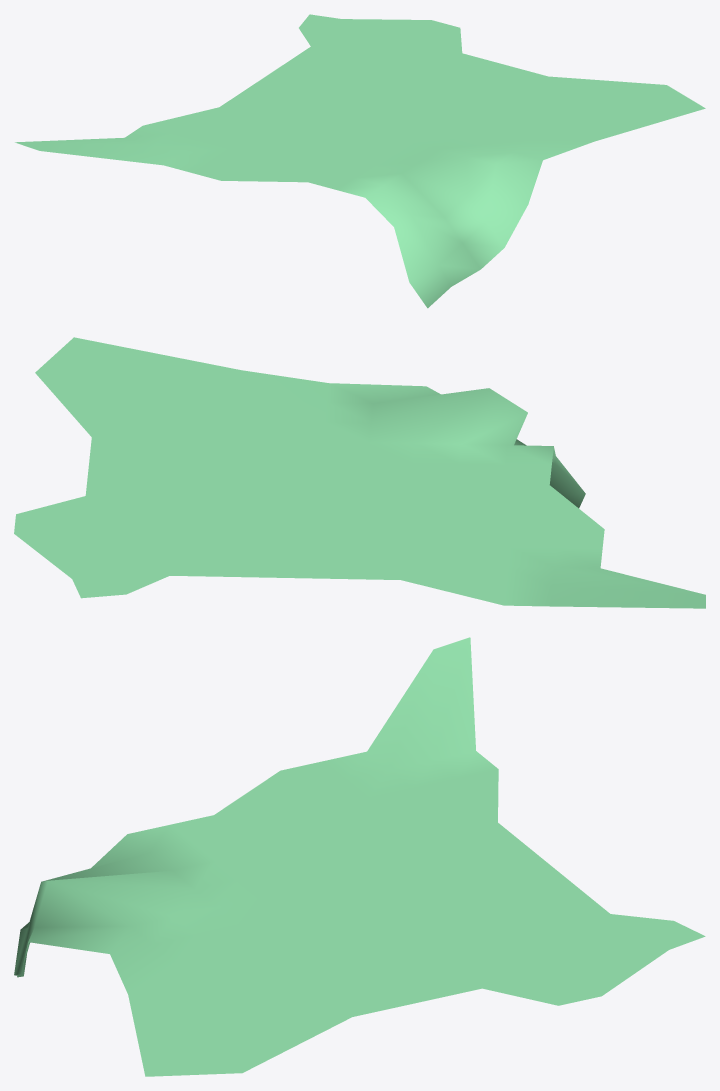
File: slime1.fbx
3 views of the same model, one above another, from view 1: azimuth 30°, elevation 25°; view 2: azimuth 150°, elevation 25°; view 3: azimuth 270°, elevation 25° (orthographic). The views are drawn at different scales.
Visible parts, largest first — view 1: pPlane2; view 2: pPlane2; view 3: pPlane2.
Part boxes in pixels (<box>): pPlane2: <box>15,14,705,308</box>; pPlane2: <box>14,337,705,608</box>; pPlane2: <box>14,637,705,1076</box>.
Size of the model in its own units: 8.7 by 1.62 by 6.28.
